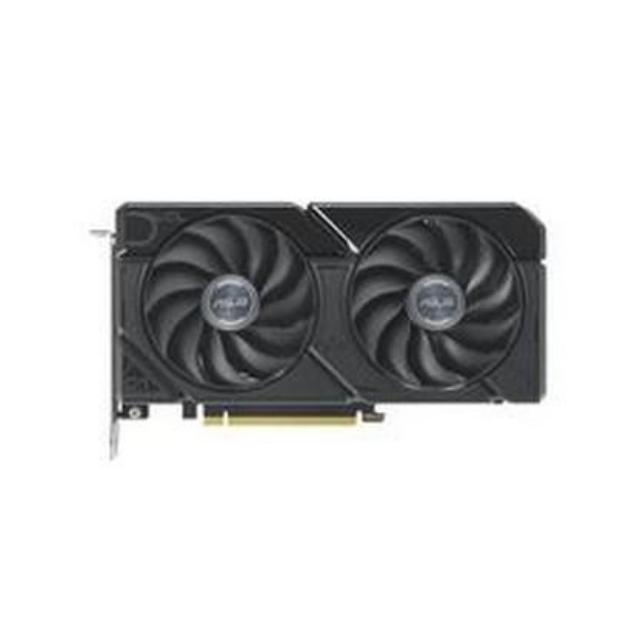GPU: (111, 199, 546, 421)
